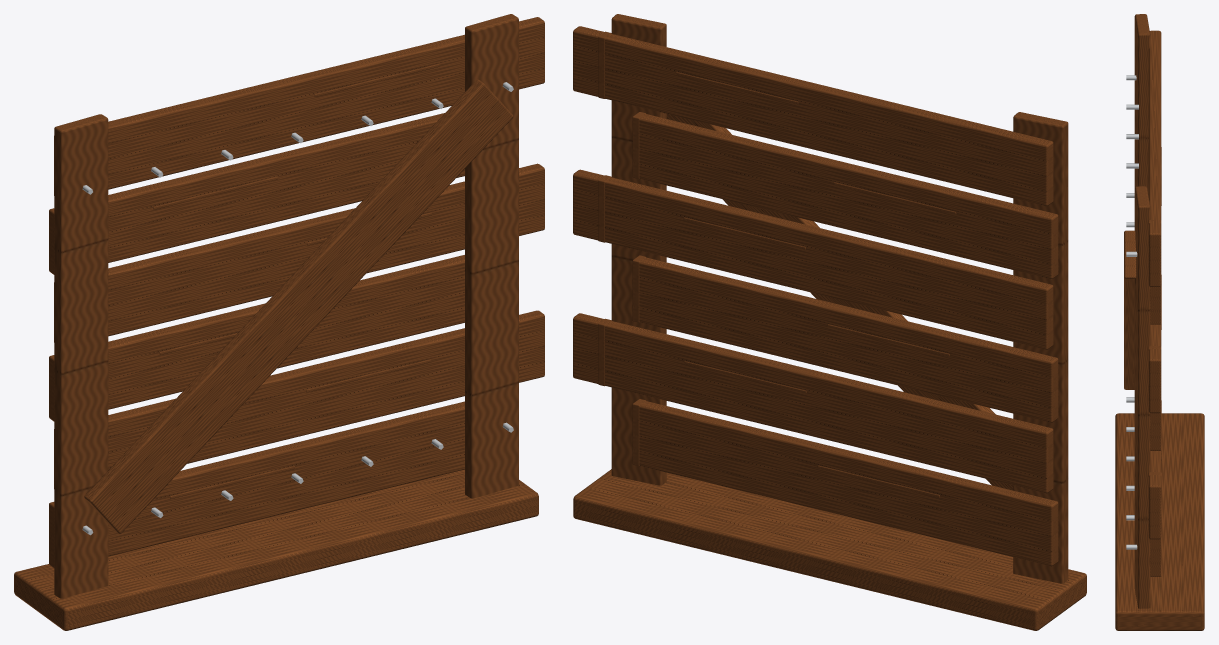
The model's file is fps-survival-forest-outpost-barricade-boards-c76078d6__32649.glb.
3 views of the same model, side by side, from view 1: azimuth 30°, elevation 25°; view 2: azimuth 150°, elevation 25°; view 3: azimuth 270°, elevation 25° (orthographic). The views are drawn at different scales.
Visible parts, largest first — view 1: barricade-boards; view 2: barricade-boards; view 3: barricade-boards.
Boxes of the visible parts, left/top/right/bottom form: barricade-boards: left=14, top=14, right=544, bottom=630; barricade-boards: left=573, top=14, right=1086, bottom=630; barricade-boards: left=1115, top=14, right=1204, bottom=630.
Size of the model in its own units: 2 by 1.87 by 0.3599.
2 materials, 1 textured.
